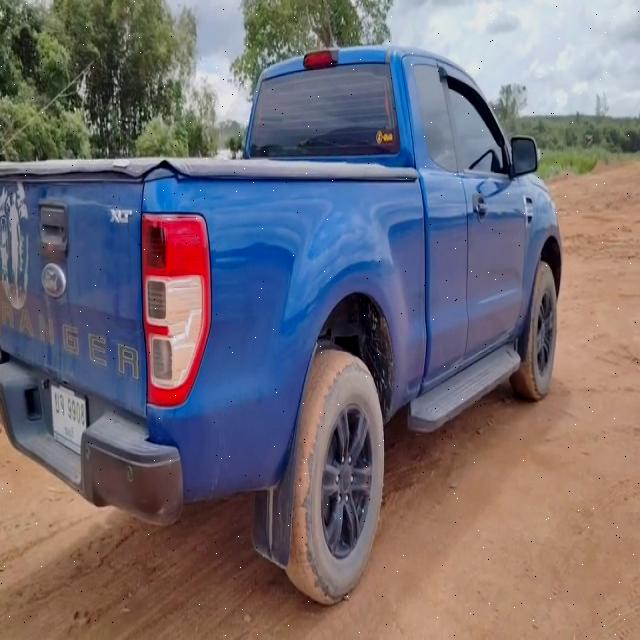Digit: (67, 396, 85, 426)
Licenseplate: (52, 379, 89, 459)
Provincename: (63, 424, 75, 444)
Thaichar: (54, 390, 64, 414)
